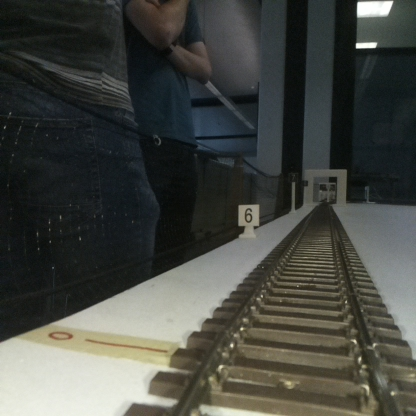black-info-7: (288, 172, 298, 215)
white-stop-6: (238, 204, 259, 238)
